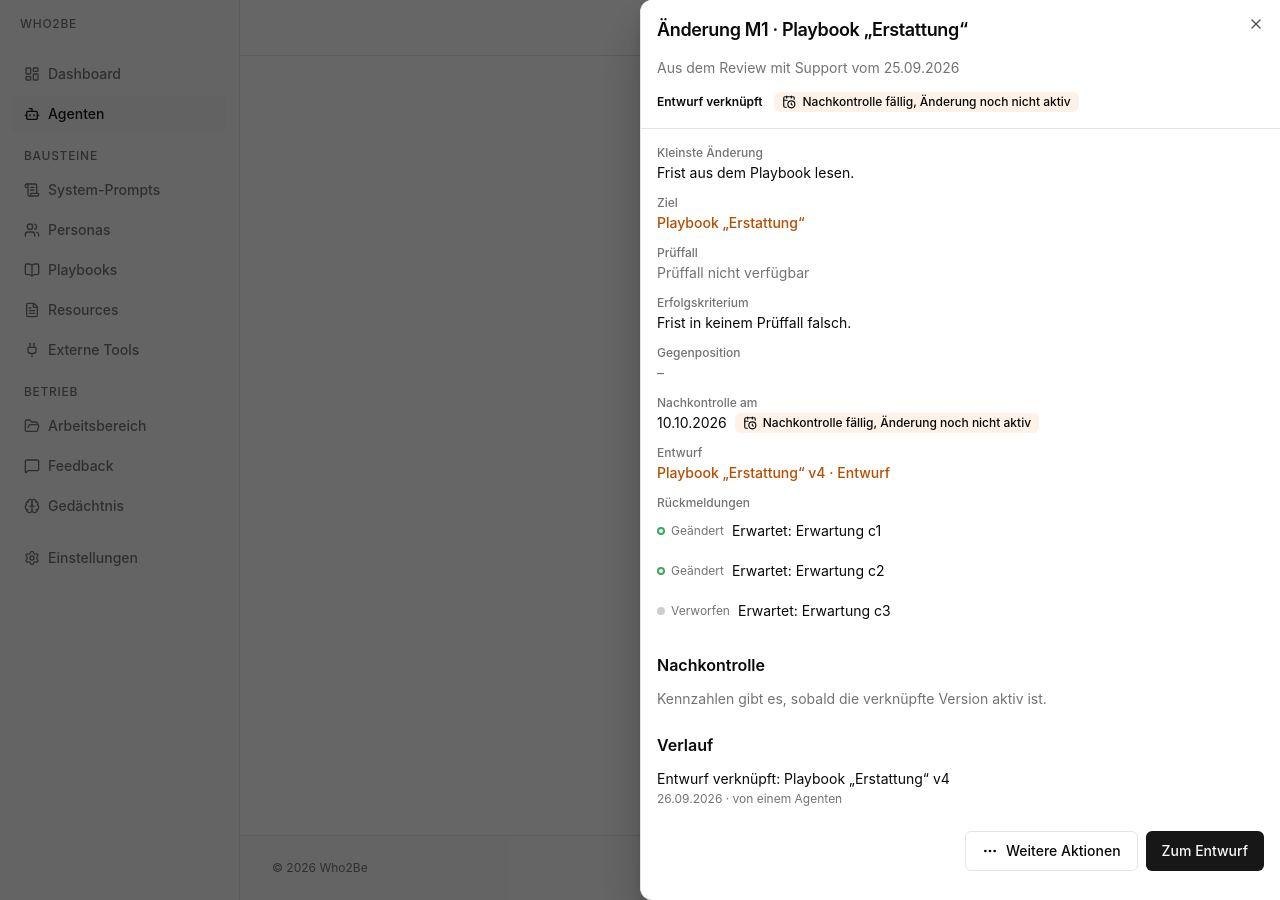
Test: ChangeActions: Entwurf verknüpfen › „Anderen Entwurf verknüpfen…“ öffnet denselben Dialog
Expected: the element with test id "change-actions" is shown, 965,831 -> 1264,871
Press the mouse on the button with test id "change-more" at (1051,851), box 965,831 -> 1138,871
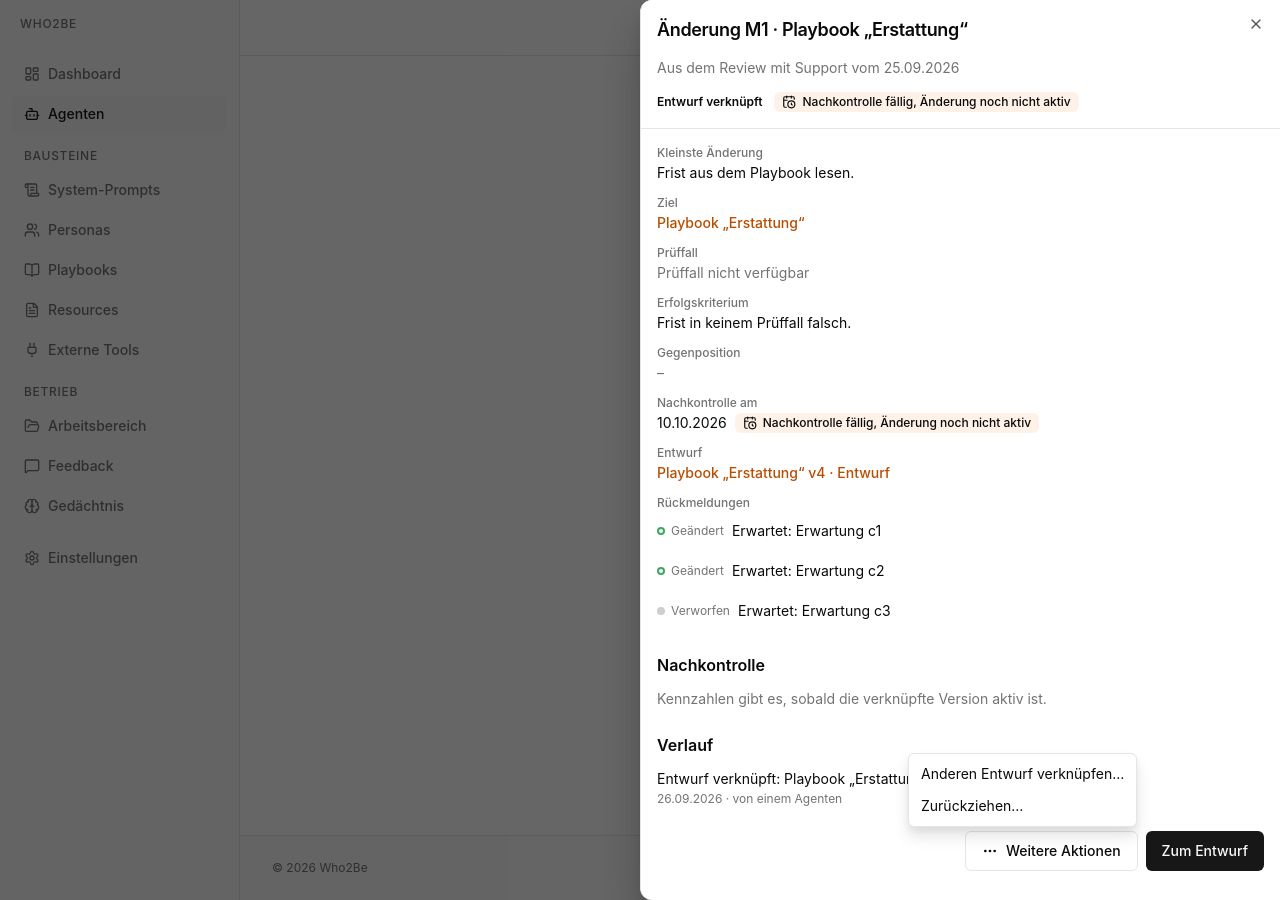
Click the menu item "Anderen Entwurf verknüpfen…".
click(1023, 774)  # box 921,765 -> 1124,782
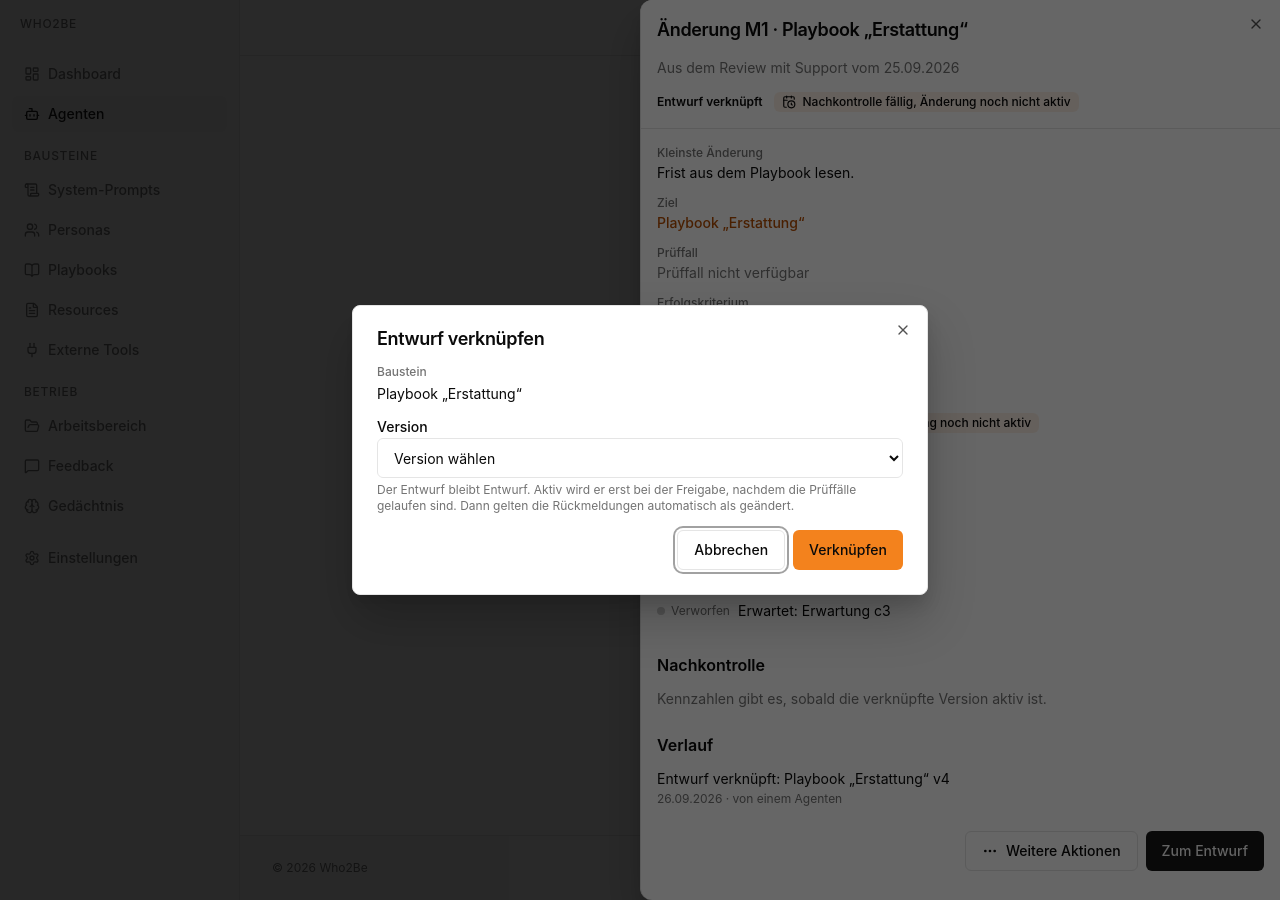
Expected: the dialog with test id "change-link-draft-dialog" is shown, 352,305 -> 928,595
